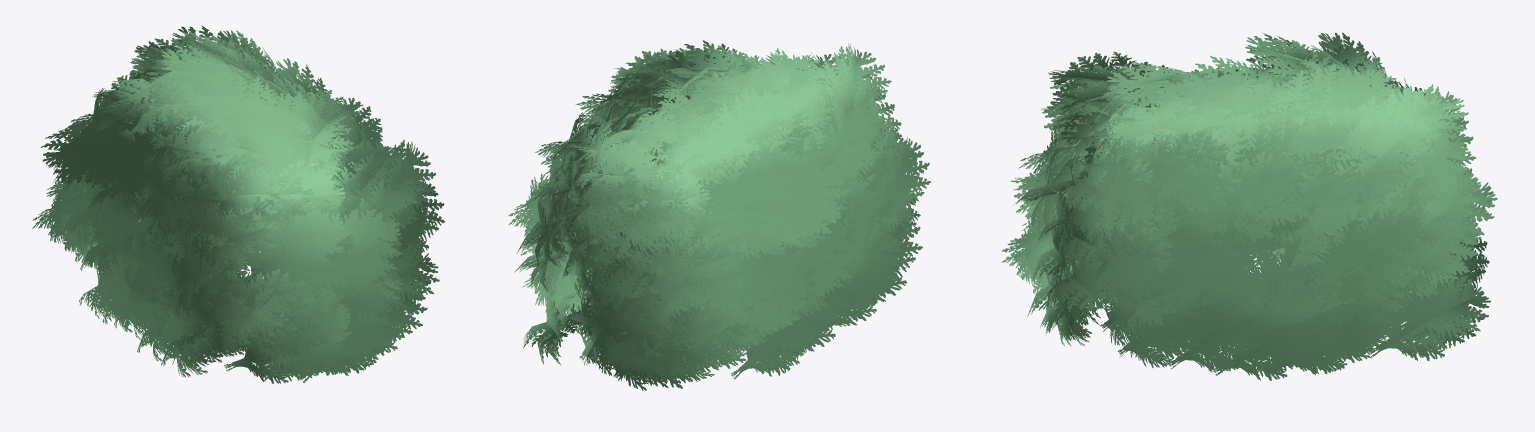
File: 3D_Buisson.fbx
3 renders of one model, left to right at view 1: azimuth 30°, elevation 25°; view 2: azimuth 150°, elevation 25°; view 3: azimuth 270°, elevation 25°, orthographic. The views are drawn at different scales.
Parts seen in each view (by area): view 1: Feuille2.001; view 2: Feuille2.001; view 3: Feuille2.001.
Boxes of the visible parts, box(x1,y1,x2,y2) form: Feuille2.001: box(32, 25, 444, 383); Feuille2.001: box(508, 40, 930, 390); Feuille2.001: box(1001, 32, 1497, 380).
Size of the model in its own units: 357 by 290 by 438.
